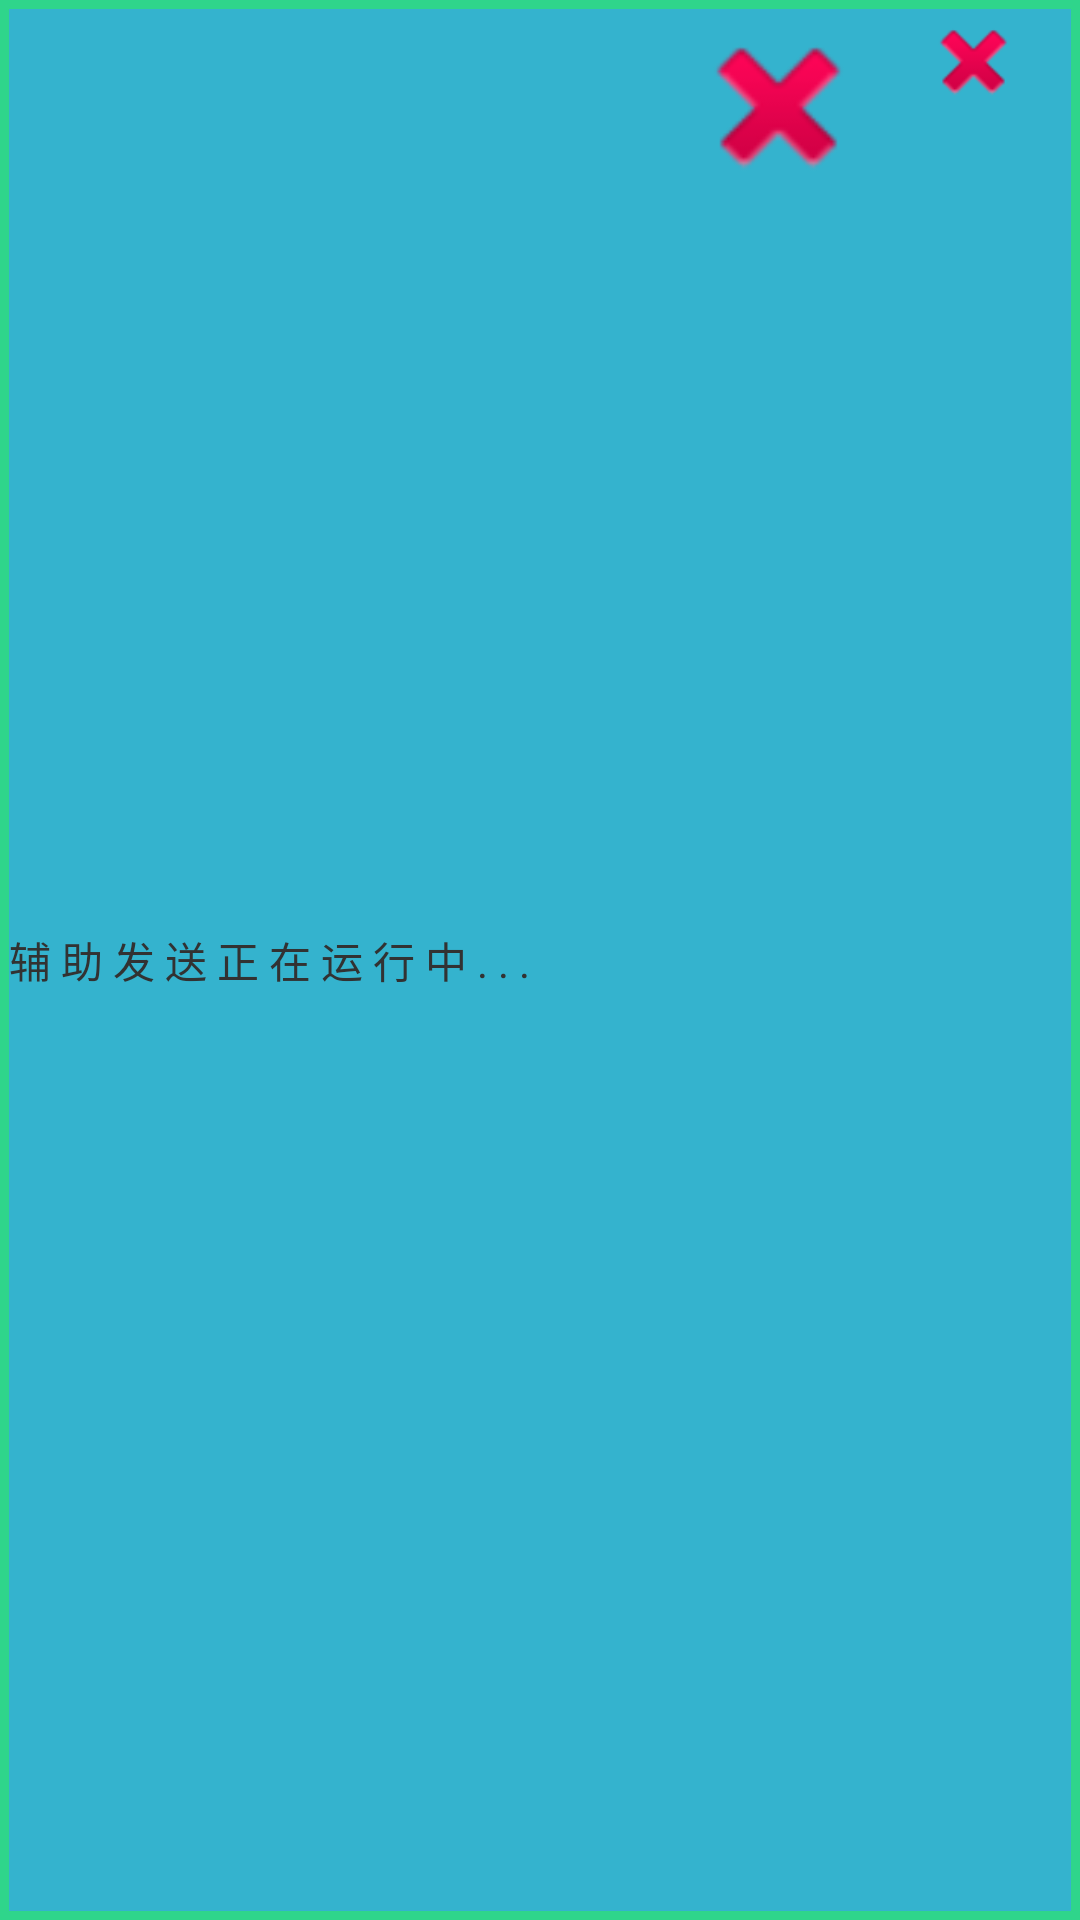

Named icons in this screenshot (1080w x 1920h) and their centers, point (x, y):
delete: point (973, 62), point (778, 108)
